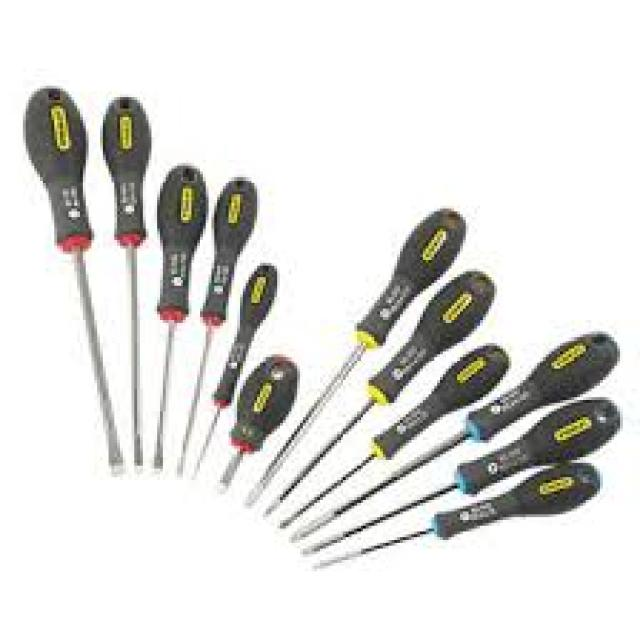screw driver: (14, 74, 128, 495)
